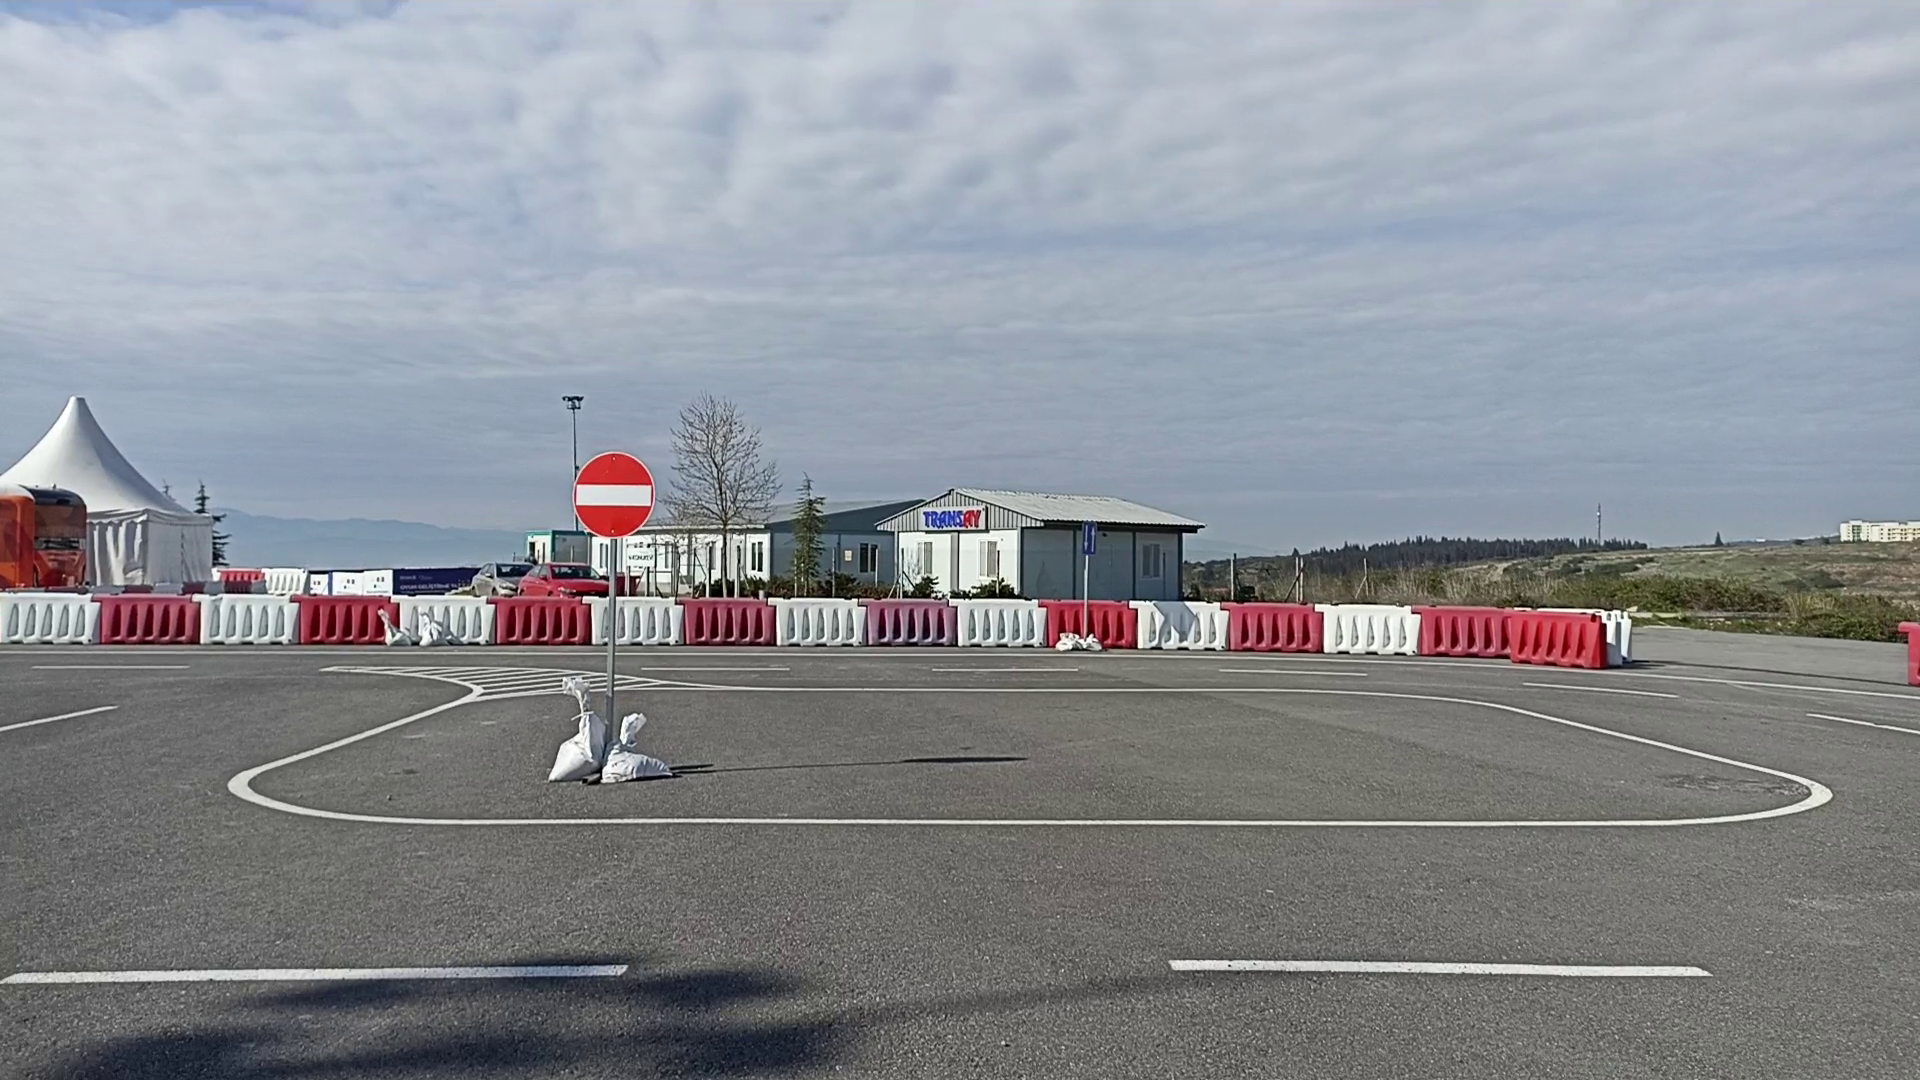noentryway: (571, 450, 659, 541)
